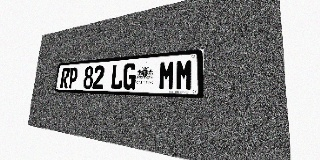2: (92, 65, 105, 89)
8: (83, 66, 94, 89)
G: (122, 63, 137, 90)
L: (110, 64, 124, 89)
M: (175, 59, 194, 91), (158, 60, 175, 90)
P: (68, 67, 78, 88)
R: (60, 68, 70, 88)
